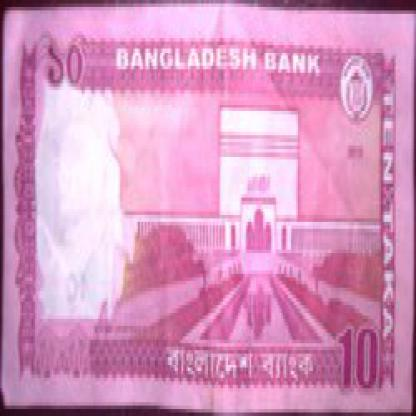Ten Taka: (335, 305, 386, 388), (41, 38, 90, 108)
